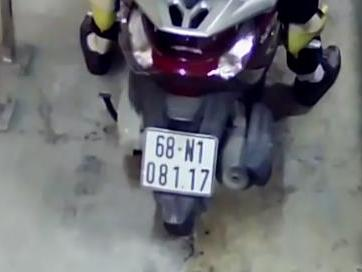num_plate: (140, 127, 217, 199)
